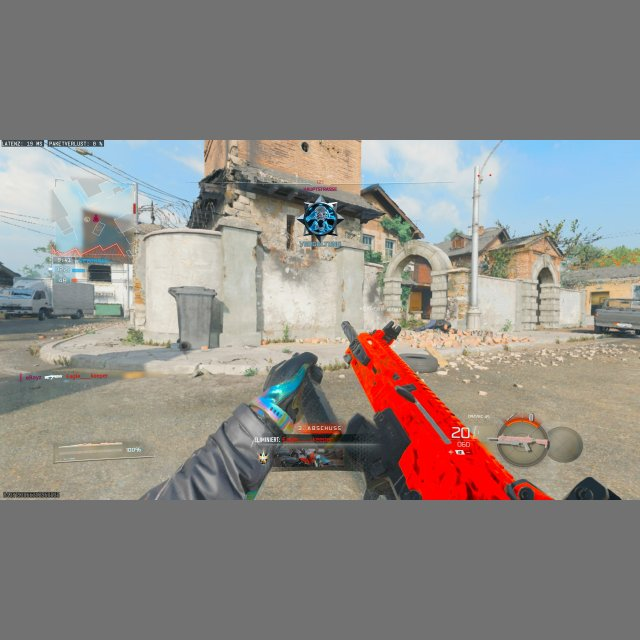player: (301, 196, 338, 244)
